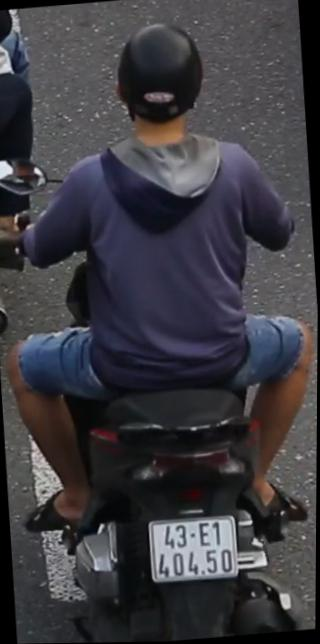LP: (144, 508, 244, 591)
helmet: (108, 14, 216, 154)
